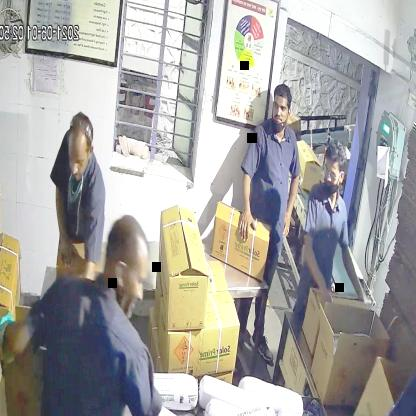goggles: (318, 165, 348, 186)
no_goggles: (269, 98, 293, 120)
